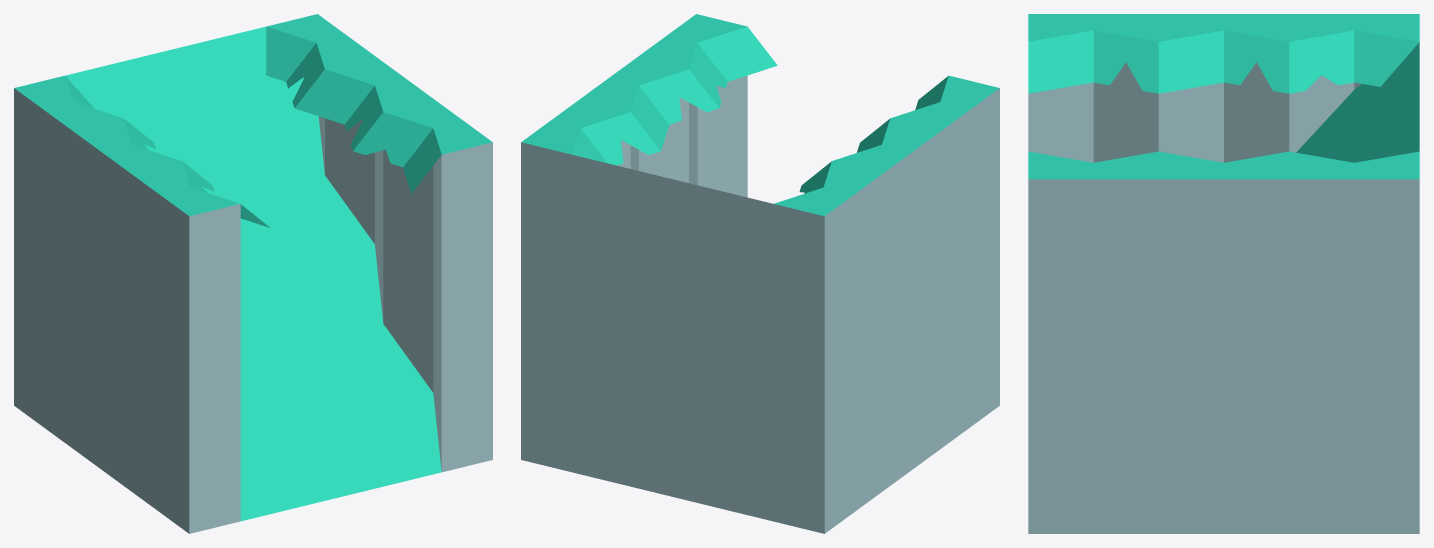
The model's file is cliff_blockSlopeWalls_stone.fbx.
3 views of the same model, side by side, from view 1: azimuth 30°, elevation 25°; view 2: azimuth 150°, elevation 25°; view 3: azimuth 270°, elevation 25° (orthographic). The views are drawn at different scales.
Parts seen in each view (by area): view 1: cliff_blockSlopeWalls_stone; view 2: cliff_blockSlopeWalls_stone; view 3: cliff_blockSlopeWalls_stone.
Boxes of the visible parts, x1,y1,x2,y2 form: cliff_blockSlopeWalls_stone: (14, 14, 492, 533); cliff_blockSlopeWalls_stone: (521, 14, 999, 533); cliff_blockSlopeWalls_stone: (1028, 14, 1419, 533).
Size of the model in its own units: 10 by 10 by 10.
